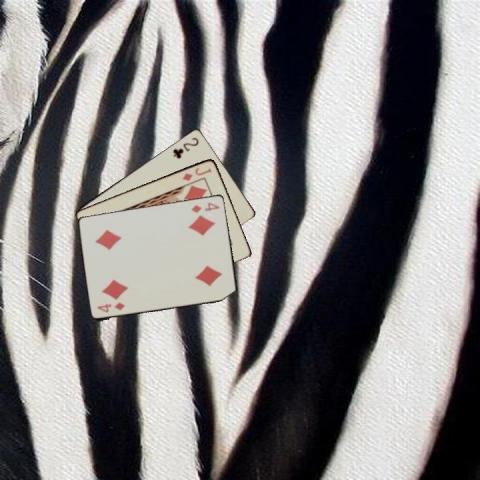2c: (170, 134, 200, 160)
4d: (189, 199, 221, 214), (94, 299, 126, 314)
Jd: (179, 165, 213, 182)
